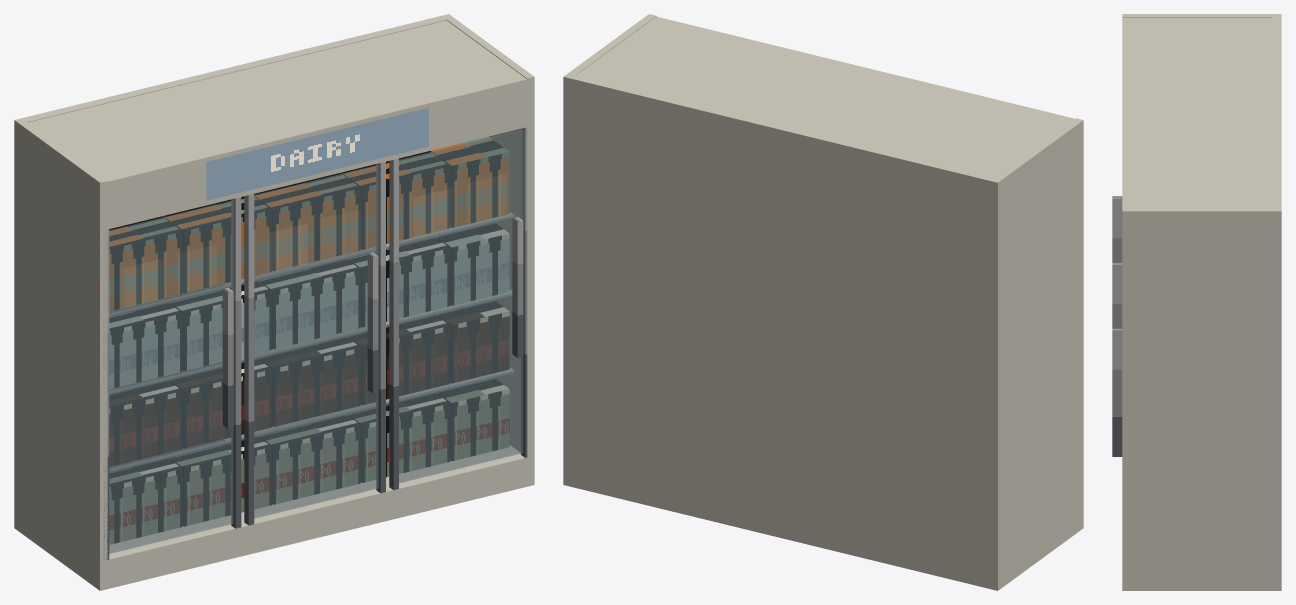
File: COM_Cooler_Drinks.glb
3 renders of one model, left to right at view 1: azimuth 30°, elevation 25°; view 2: azimuth 150°, elevation 25°; view 3: azimuth 270°, elevation 25°, orthographic. The views are drawn at different scales.
Parts seen in each view (by area): view 1: COM_Cooler_Drinks_Mesh; view 2: COM_Cooler_Drinks_Mesh; view 3: COM_Cooler_Drinks_Mesh.
Boxes of the visible parts, x1,y1,x2,y2 form: COM_Cooler_Drinks_Mesh: [14, 14, 534, 590]; COM_Cooler_Drinks_Mesh: [563, 14, 1083, 590]; COM_Cooler_Drinks_Mesh: [1112, 14, 1281, 590].
Size of what is drawn, in the model's own units: 2.34 by 2.1 by 0.85.
3 materials, 3 textured.
